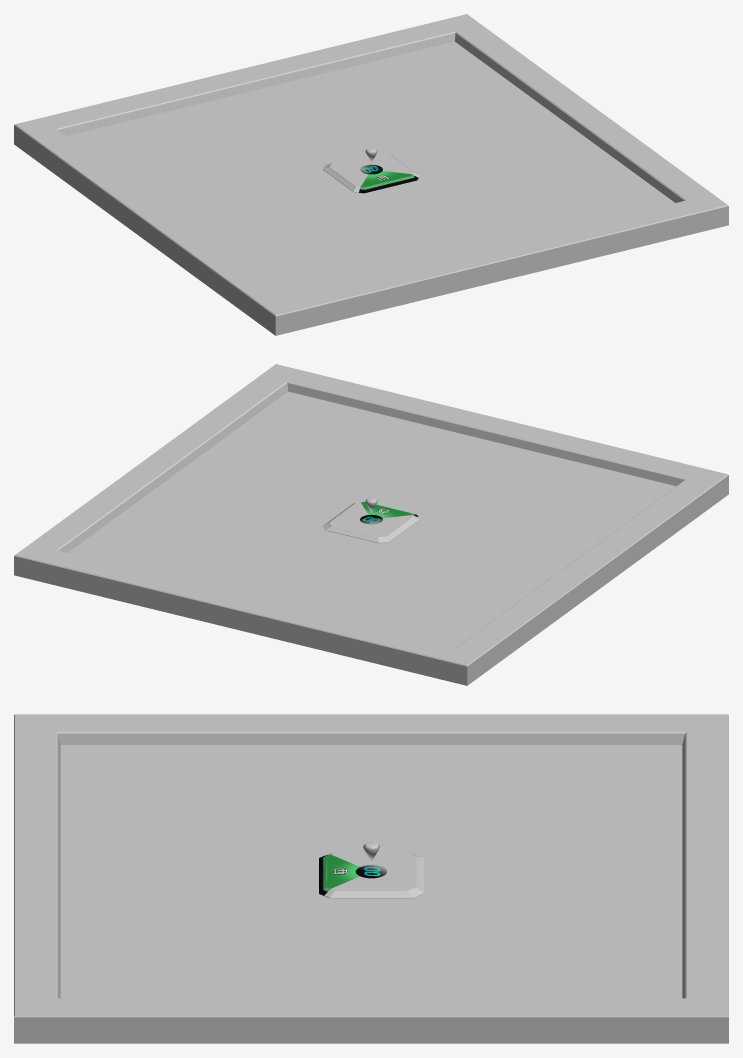
File: MahJongDesk.fbx
The picture shows the model from 3 angles, top to bottom: view 1: azimuth 30°, elevation 25°; view 2: azimuth 150°, elevation 25°; view 3: azimuth 270°, elevation 25°; orthographic projection. The views are drawn at different scales.
Parts seen in each view (by area): view 1: MahJongDesk, west, east, south, north, W, S; view 2: MahJongDesk, east, west, north, south, E, S; view 3: MahJongDesk, south, north, west, east, N, W, E, S.
Part boxes in pixels (bbox=[...]): MahJongDesk: bbox=[14, 14, 728, 335]; west: bbox=[330, 195, 560, 257]; east: bbox=[183, 88, 413, 149]; south: bbox=[171, 156, 317, 253]; north: bbox=[427, 93, 572, 190]; W: bbox=[359, 171, 418, 193]; S: bbox=[323, 165, 368, 192]; MahJongDesk: bbox=[14, 364, 728, 685]; east: bbox=[182, 545, 412, 607]; west: bbox=[329, 438, 559, 499]; north: bbox=[172, 442, 317, 539]; south: bbox=[427, 504, 572, 602]; E: bbox=[324, 521, 383, 543]; S: bbox=[374, 515, 419, 542]; MahJongDesk: bbox=[14, 714, 728, 1043]; south: bbox=[196, 784, 542, 797]; north: bbox=[196, 954, 542, 967]; west: bbox=[154, 803, 185, 949]; east: bbox=[557, 803, 588, 949]; N: bbox=[324, 876, 418, 898]; W: bbox=[319, 854, 359, 895]; E: bbox=[383, 854, 423, 895]; S: bbox=[325, 852, 417, 866].
Size of the model in its own units: 81.94 by 6.35 by 81.94.
